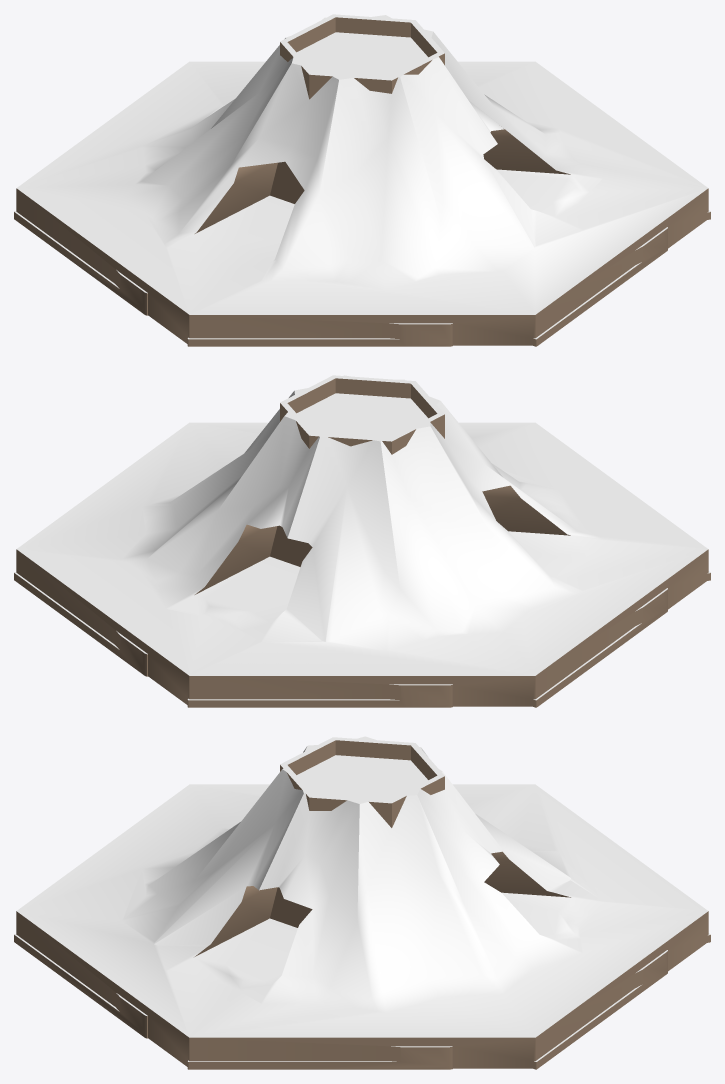
File: hex_piedra.glb
3 renders of one model, top to bottom at view 1: azimuth 30°, elevation 25°; view 2: azimuth 150°, elevation 25°; view 3: azimuth 270°, elevation 25°, orthographic.
Parts seen in each view (by area): view 1: Top, Side; view 2: Top, Side; view 3: Top, Side.
Boxes of the visible parts, left/top/right/bottom form: Top: left=14, top=14, right=710, bottom=339; Side: left=14, top=17, right=710, bottom=346; Top: left=14, top=375, right=710, bottom=700; Side: left=14, top=378, right=710, bottom=707; Top: left=14, top=736, right=710, bottom=1061; Side: left=14, top=740, right=710, bottom=1069.
Bounding box in the file's own units: 156 × 48.88 × 180.
